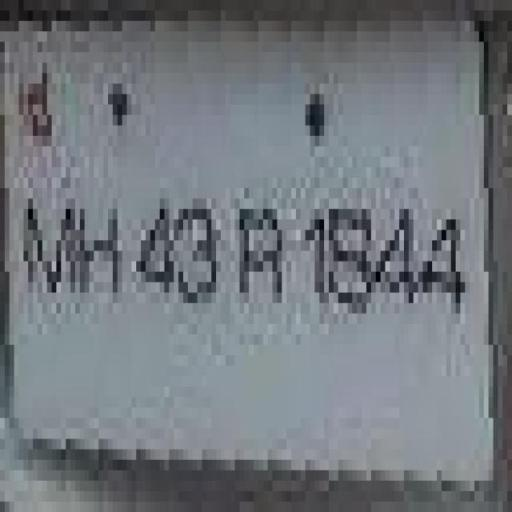number plate: (0, 31, 498, 469)
